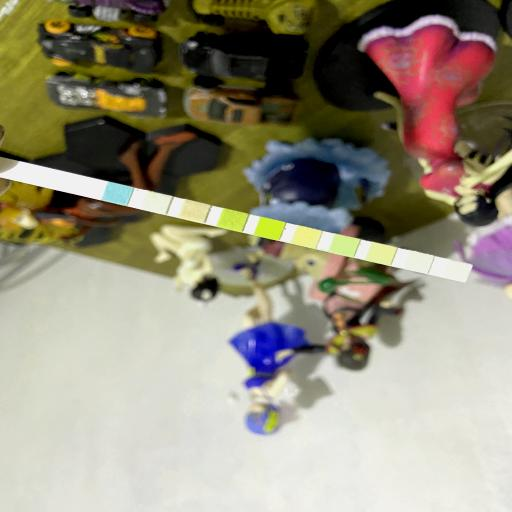Bilirubin: (146, 194, 166, 210)
Blood: (258, 220, 280, 236)
Glucose: (108, 186, 128, 202)
Ketone: (184, 204, 206, 219)
Leukocytes: (446, 263, 468, 278)
Nitrite: (406, 254, 430, 270)
Protein: (333, 237, 354, 253)
SpGravity: (221, 212, 243, 228)
Urobilinogen: (370, 246, 392, 262)
pH: (296, 229, 318, 245)
strip: (0, 156, 475, 283)
